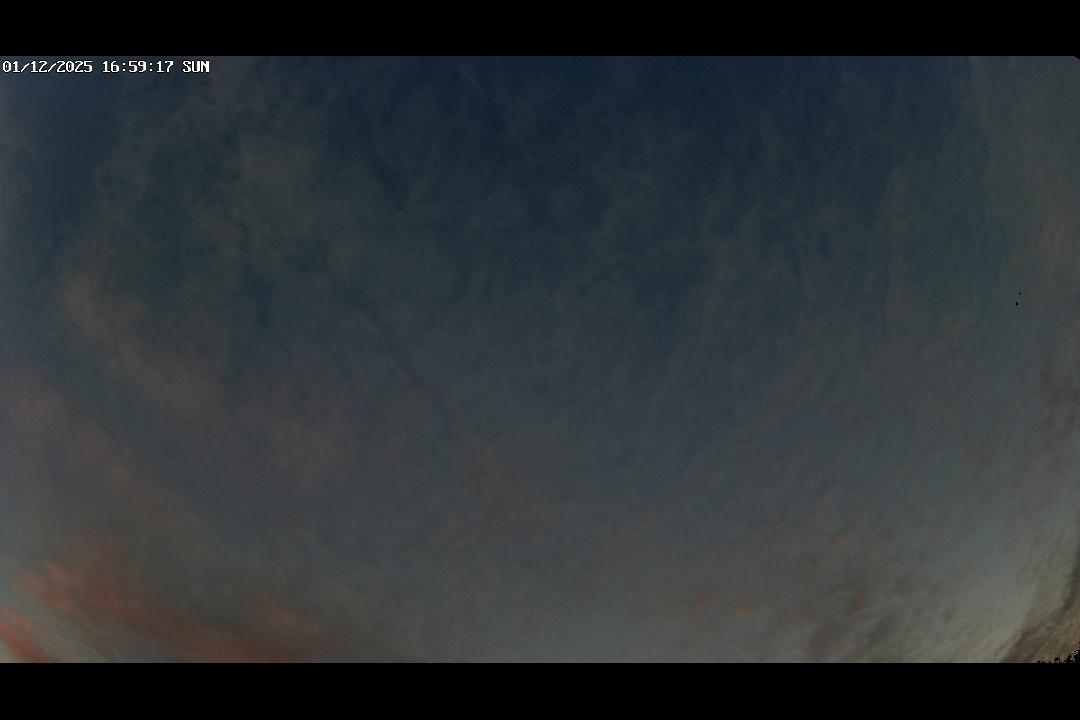WildLife: (1014, 289, 1027, 297), (1013, 298, 1022, 309)
